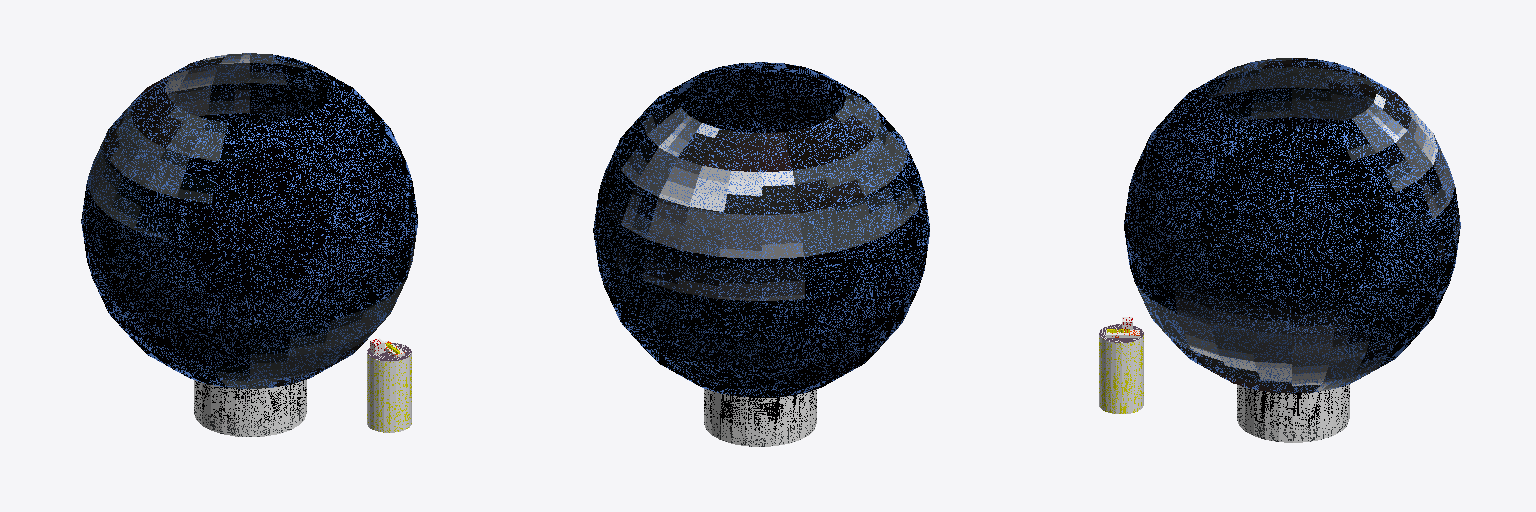
3 views of the same model, side by side, from view 1: azimuth 30°, elevation 25°; view 2: azimuth 150°, elevation 25°; view 3: azimuth 270°, elevation 25° (orthographic).
Visible parts, largest first — view 1: mesh62_mesh62-geometry, mesh63_mesh63-geometry, mesh64_mesh64-geometry; view 2: mesh62_mesh62-geometry, mesh63_mesh63-geometry; view 3: mesh62_mesh62-geometry, mesh63_mesh63-geometry, mesh64_mesh64-geometry.
Part boxes in pixels (left/top/right/bottom): mesh62_mesh62-geometry: left=81, top=53, right=417, bottom=388; mesh63_mesh63-geometry: left=194, top=380, right=306, bottom=436; mesh64_mesh64-geometry: left=367, top=338, right=411, bottom=432; mesh62_mesh62-geometry: left=593, top=62, right=929, bottom=397; mesh63_mesh63-geometry: left=704, top=389, right=816, bottom=446; mesh62_mesh62-geometry: left=1124, top=58, right=1460, bottom=393; mesh63_mesh63-geometry: left=1237, top=384, right=1349, bottom=442; mesh64_mesh64-geometry: left=1099, top=317, right=1143, bottom=413.
Bounding box in the file's own units: 0.5517 × 0.5873 × 0.5921.
20 materials, 4 textured.